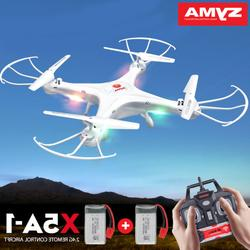drone: (1, 37, 250, 163)
